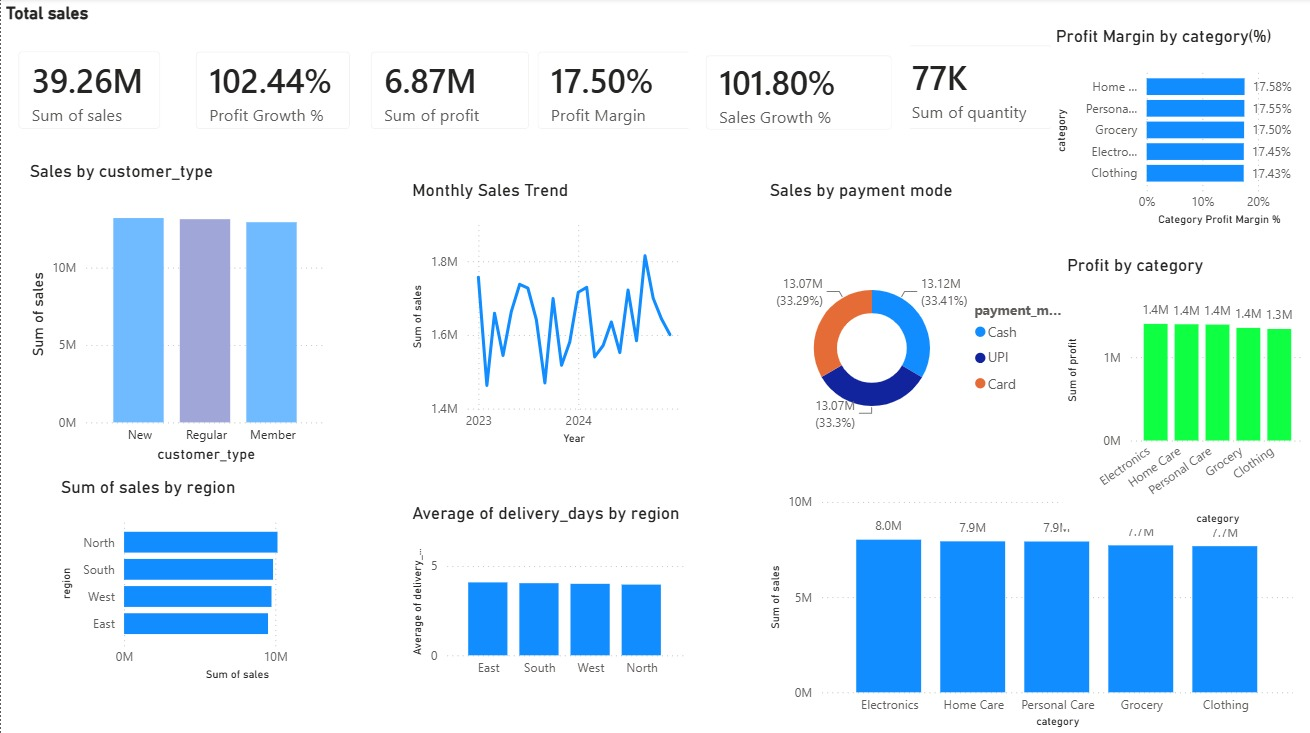

Layout of this report page (visuals, bound fields, positions):
{"tool":"powerbi","page":{"name":"Executive Dashboard","canvas":[1280,720],"ordinal":0},"visuals":[{"type":"cardVisual","title":"Total sales","fields":{"Data":["Sum(Main.sales)"]},"box":[0,4.9,173.6,140.6],"z":0},{"type":"cardVisual","fields":{"Data":["Sum(Main.profit)","Main.Profit Margin"]},"box":[344.8,35.5,352.2,110.1],"z":1000},{"type":"cardVisual","fields":{"Data":["Sum(Main.quantity)"]},"box":[860.9,29.3,185.9,116.2],"z":2000},{"type":"lineChart","title":"Monthly Sales Trend","fields":{"Y":["Sum(Main.sales)"],"Category":["Main.order_date.Variation.Date Hierarchy.Year","Main.order_date.Variation.Date Hierarchy.Month"]},"box":[397.4,177.3,275.1,264.1],"z":3000},{"type":"clusteredBarChart","fields":{"Category":["Main.region"],"Y":["Sum(Main.sales)"]},"box":[53.8,468.3,305.7,204.2],"z":4000},{"type":"clusteredColumnChart","title":"Sales by category","fields":{"Category":["Main.category"],"Y":["Sum(Main.sales)"]},"box":[747.2,448.8,522.1,270.2],"z":6000},{"type":"donutChart","title":"Sales by payment mode","fields":{"Category":["Main.payment_mode"],"Y":["Sum(Main.sales)"]},"box":[747.2,177.3,300,300],"z":7000},{"type":"clusteredColumnChart","title":"Sales by customer_type","fields":{"Category":["Main.customer_type"],"Y":["Sum(Main.sales)"]},"box":[23.2,159,300,300],"z":8000},{"type":"clusteredColumnChart","fields":{"Category":["Main.region"],"Y":["Avg(Main.delivery_days)"]},"box":[397.4,494,275,179],"z":9000},{"type":"cardVisual","fields":{"Data":["Main.Sales Growth %"]},"box":[672.6,39.1,216.4,107.6],"z":10000},{"type":"cardVisual","fields":{"Data":["Main.Profit Growth %"]},"box":[173.6,35.5,185.9,110.1],"z":11000},{"type":"clusteredColumnChart","title":"Profit by category","fields":{"Category":["Main.category"],"Y":["Sum(Main.profit)"]},"box":[1038.2,250.7,242.1,269],"z":11001},{"type":"clusteredBarChart","title":" Profit Margin  by category(%)","fields":{"Category":["Main.category"],"Y":["Main.Category Profit Margin %"]},"box":[1027.2,26.9,253.1,200.5],"z":11002}]}

Visuals, with their boxes in screenshot pixels (x1, y1, x2, y2), scaled from the page's 1280x720 canvas onto the 1310x733 screenshot:
"Total sales" cardVisual: 0/5/178/148
cardVisual - Sum(Main.profit) x Main.Profit Margin: 353/36/713/148
cardVisual - Sum(Main.quantity): 881/30/1071/148
"Monthly Sales Trend" lineChart: 407/181/688/449
clusteredBarChart - Main.region x Sum(Main.sales): 55/477/368/685
"Sales by category" clusteredColumnChart: 765/457/1299/732
"Sales by payment mode" donutChart: 765/181/1072/486
"Sales by customer_type" clusteredColumnChart: 24/162/331/467
clusteredColumnChart - Main.region x Avg(Main.delivery_days): 407/503/688/685
cardVisual - Main.Sales Growth %: 688/40/910/149
cardVisual - Main.Profit Growth %: 178/36/368/148
"Profit by category" clusteredColumnChart: 1063/255/1309/529
" Profit Margin  by category(%)" clusteredBarChart: 1051/27/1309/232
